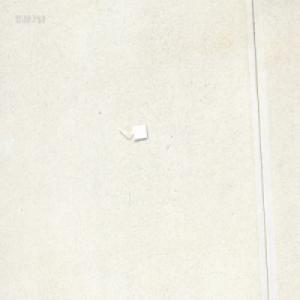LuggageTag: (117, 123, 148, 141)
